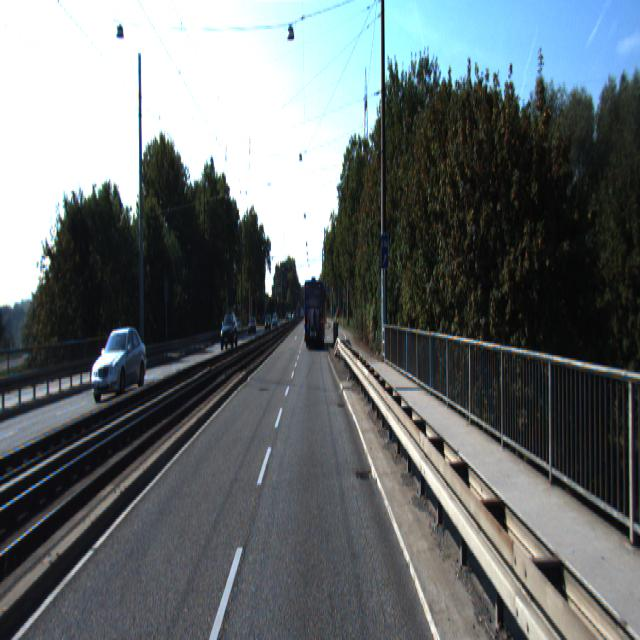Car: (90, 324, 150, 403), (304, 276, 327, 347), (220, 312, 239, 352)
